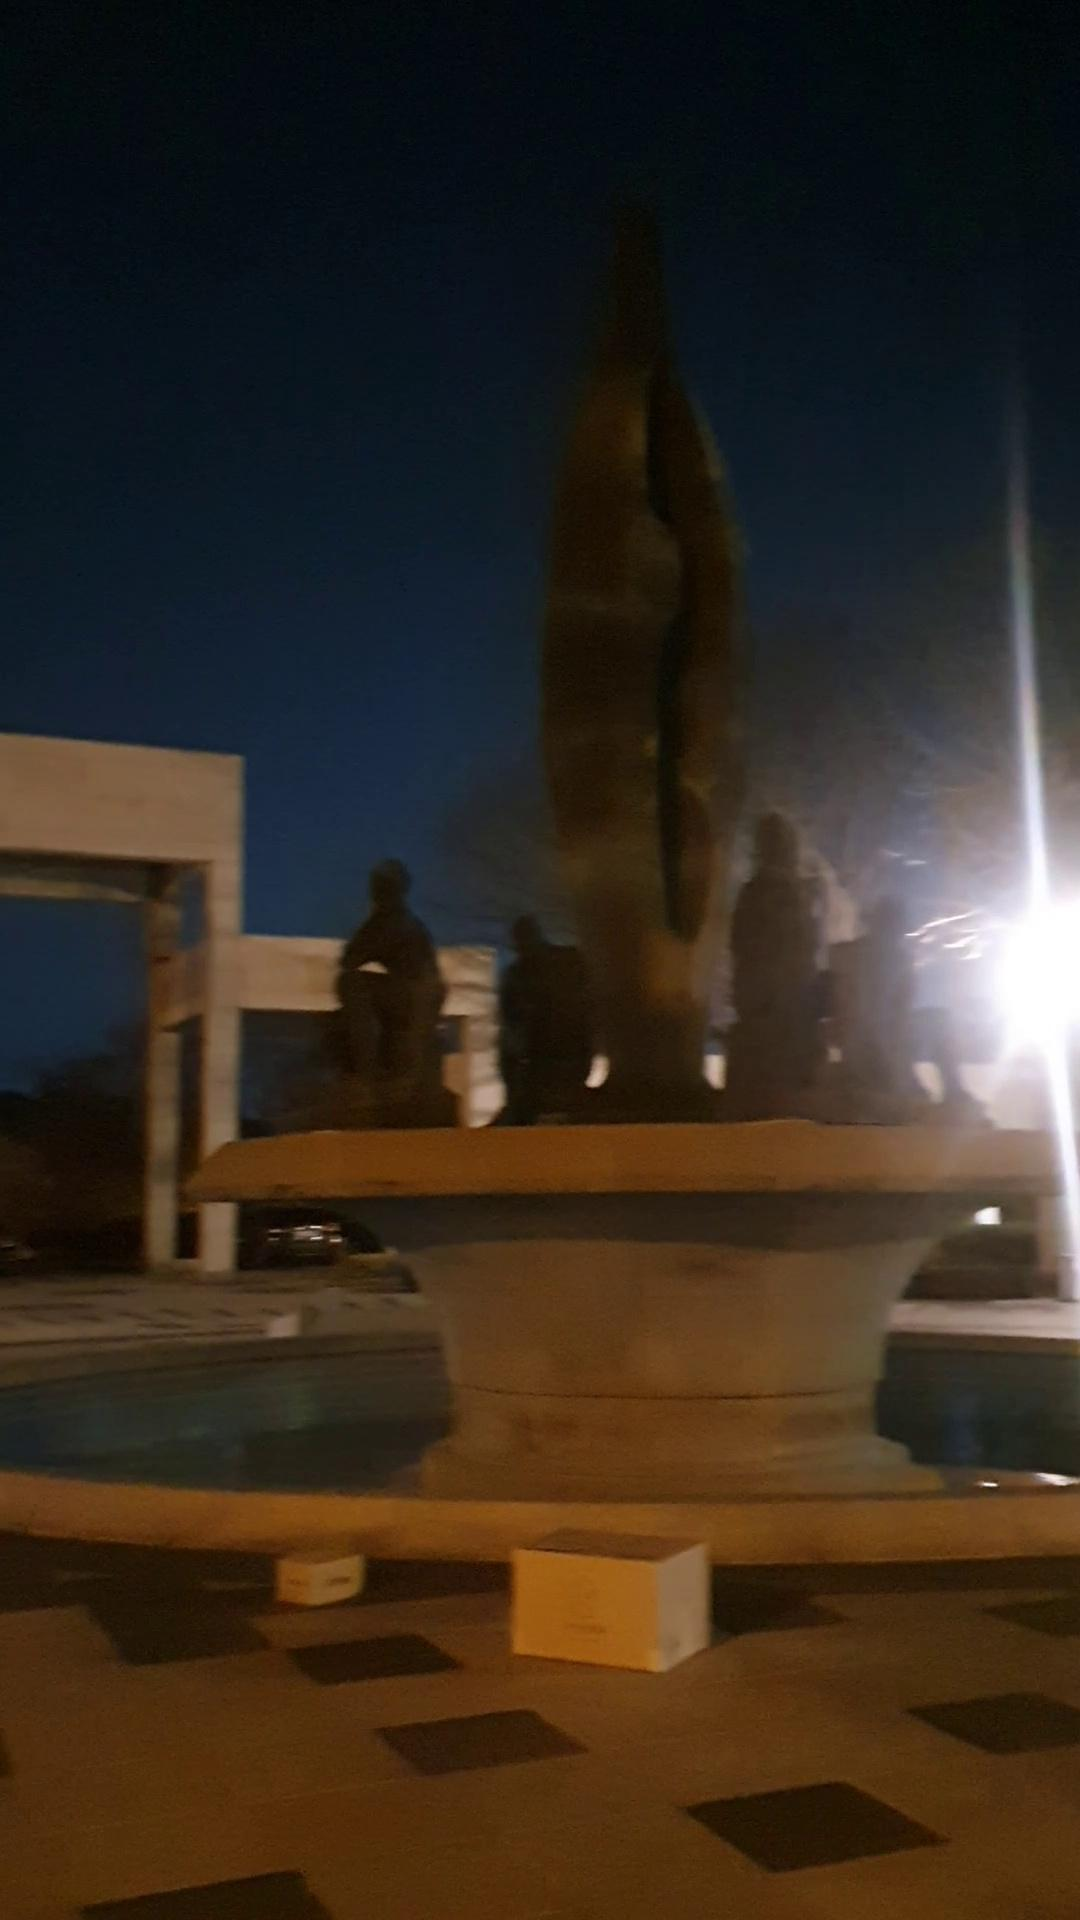Box: (502, 1509, 717, 1680), (266, 1528, 368, 1613)
